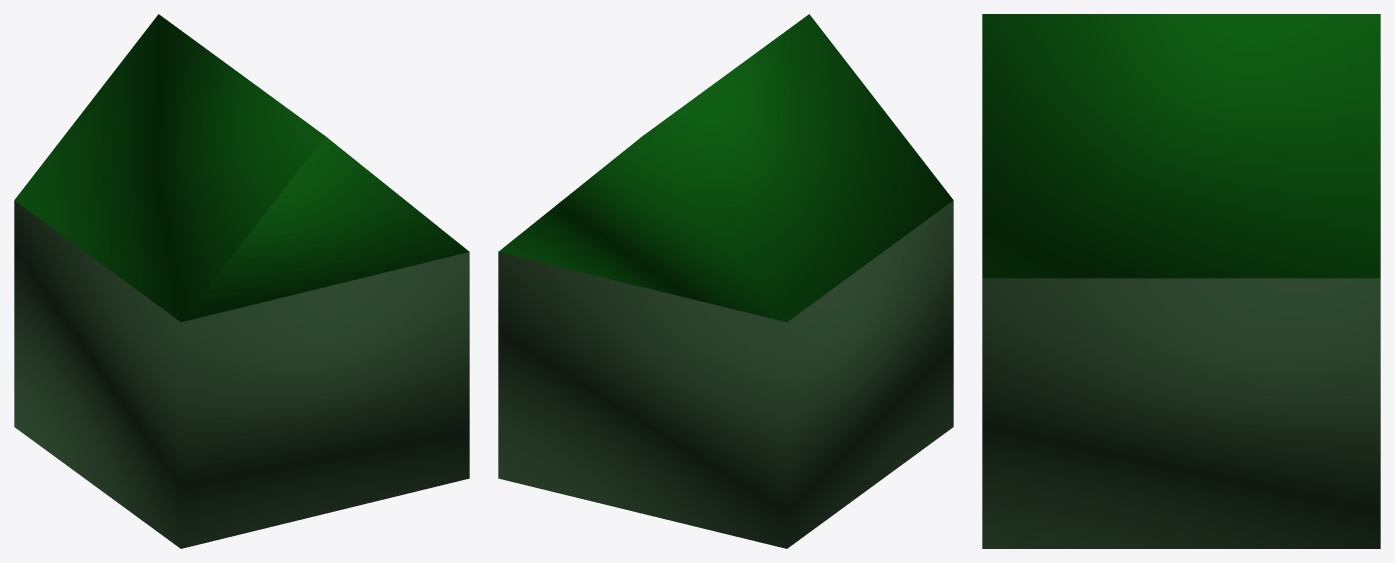
Rendered from PH_tent_green.fbx.
3 renders of one model, left to right at view 1: azimuth 30°, elevation 25°; view 2: azimuth 150°, elevation 25°; view 3: azimuth 270°, elevation 25°, orthographic. The views are drawn at different scales.
Visible parts, largest first — view 1: Cube, Cube_001; view 2: Cube, Cube_001; view 3: Cube, Cube_001.
Boxes of the visible parts, x1,y1,x2,y2 form: Cube: [14, 200, 469, 548]; Cube_001: [14, 14, 469, 322]; Cube: [498, 200, 953, 548]; Cube_001: [498, 14, 953, 322]; Cube: [982, 278, 1380, 548]; Cube_001: [982, 14, 1380, 278].
Bounding box in the file's own units: 4 × 5 × 4.
